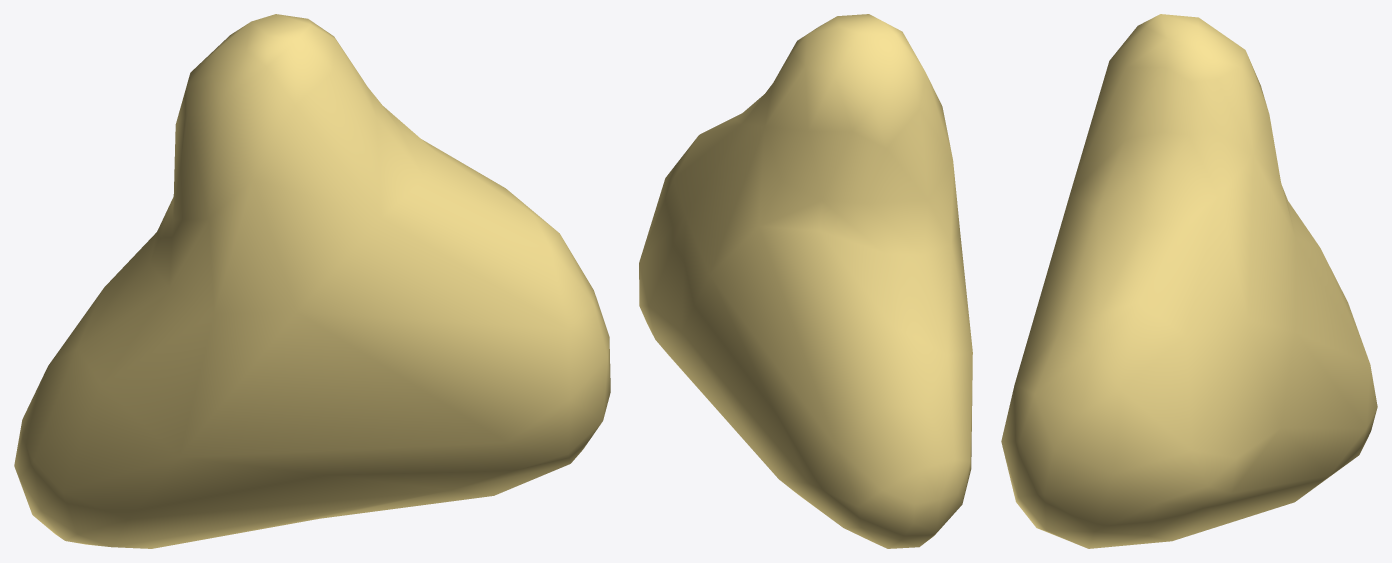
3 views of the same model, side by side, from view 1: azimuth 30°, elevation 25°; view 2: azimuth 150°, elevation 25°; view 3: azimuth 270°, elevation 25° (orthographic). The views are drawn at different scales.
Parts seen in each view (by area): view 1: ZA_9b720257b2e28b06; view 2: ZA_9b720257b2e28b06; view 3: ZA_9b720257b2e28b06.
Boxes of the visible parts, box(x1,y1,x2,y2) form: ZA_9b720257b2e28b06: box(14, 14, 610, 548); ZA_9b720257b2e28b06: box(639, 14, 972, 548); ZA_9b720257b2e28b06: box(1001, 14, 1377, 548).
Size of the model in its own units: 0.00303 by 0.00339 by 0.0023.
